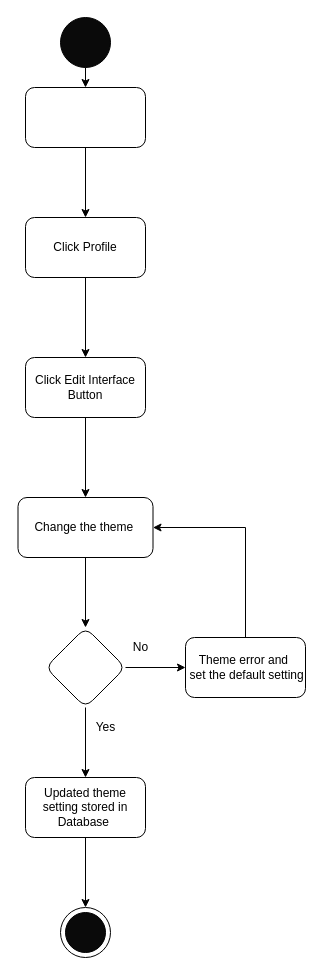
Image size: 323x975. Some labels were removed from this diagram. Here are the shapes that lost their labels. From the top down, the box of each, then its label:
(24, 86, 146, 148): User Login
(44, 626, 126, 708): Verification
